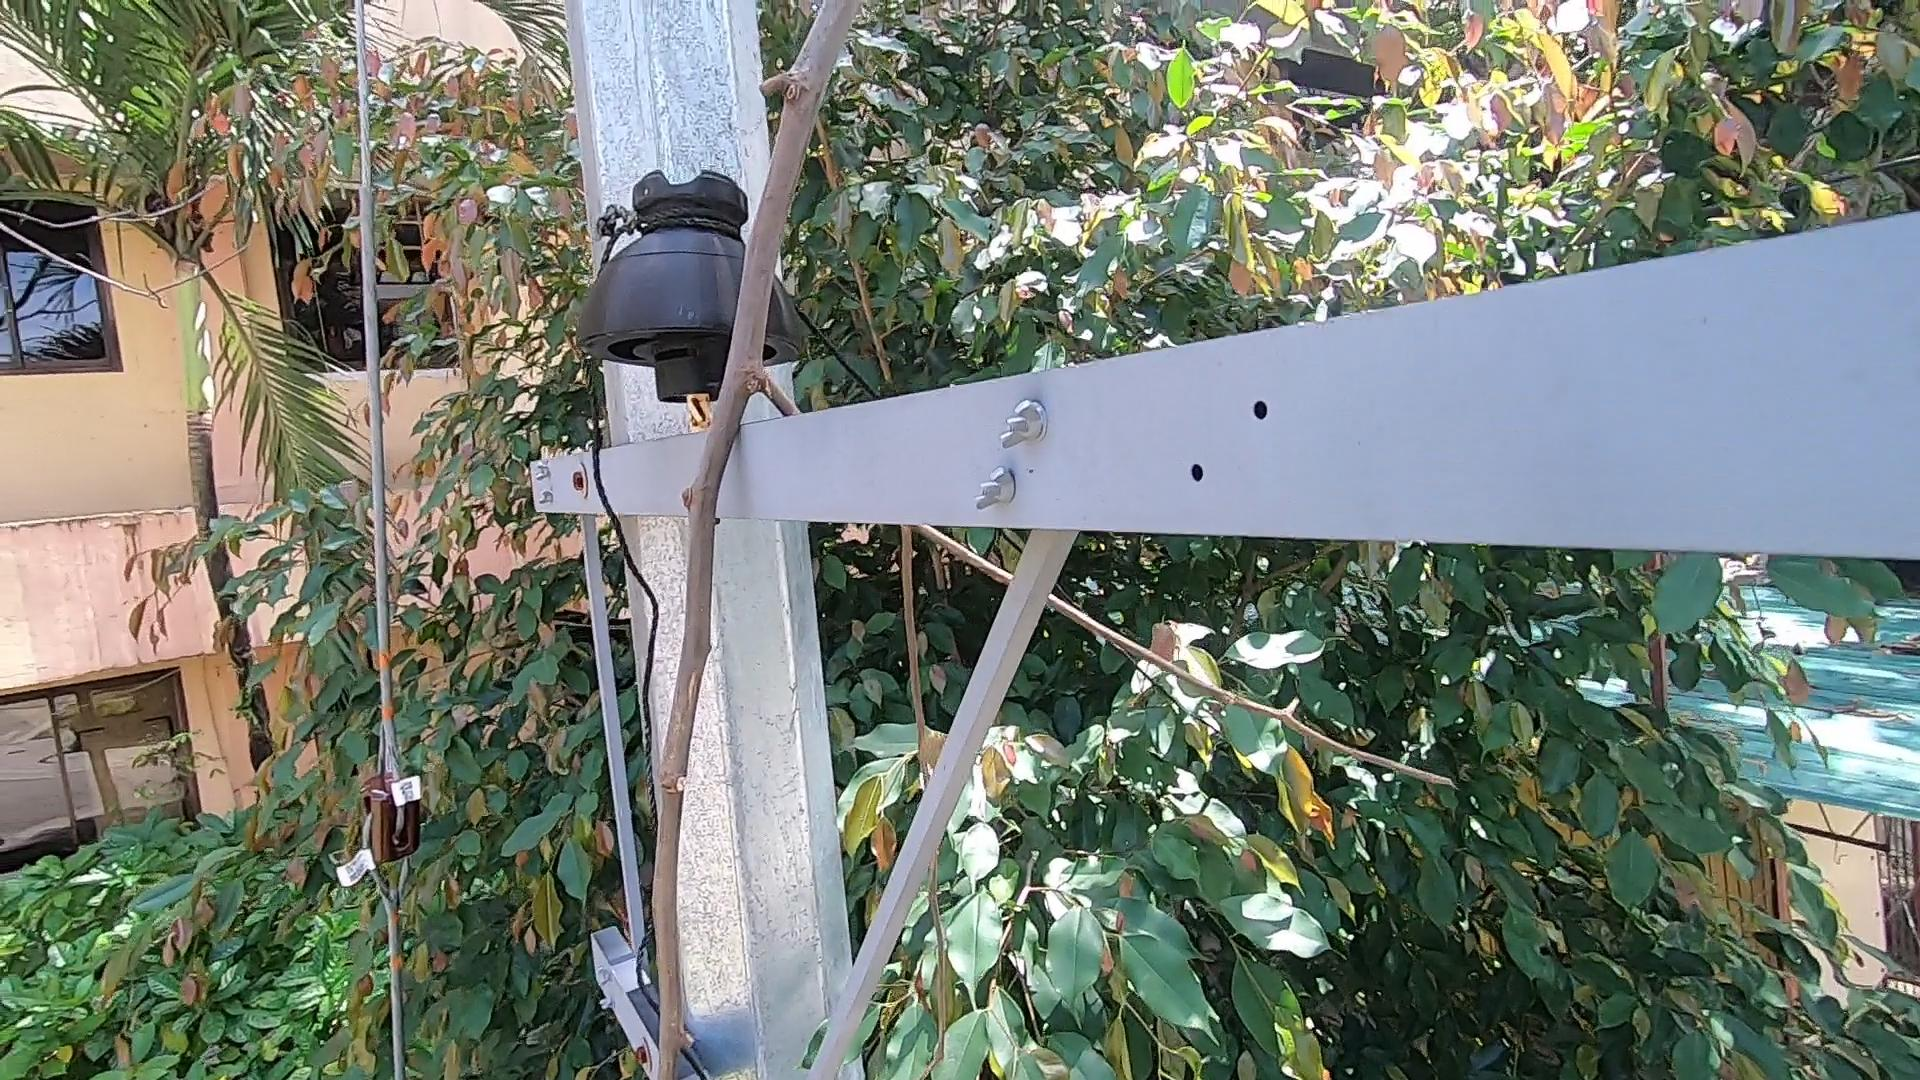tree branch: (626, 3, 895, 1080)
